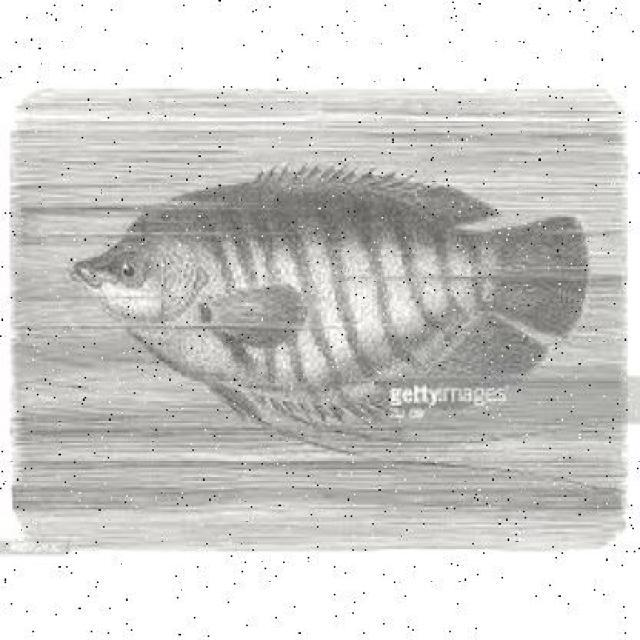gurame: (64, 165, 590, 444)
